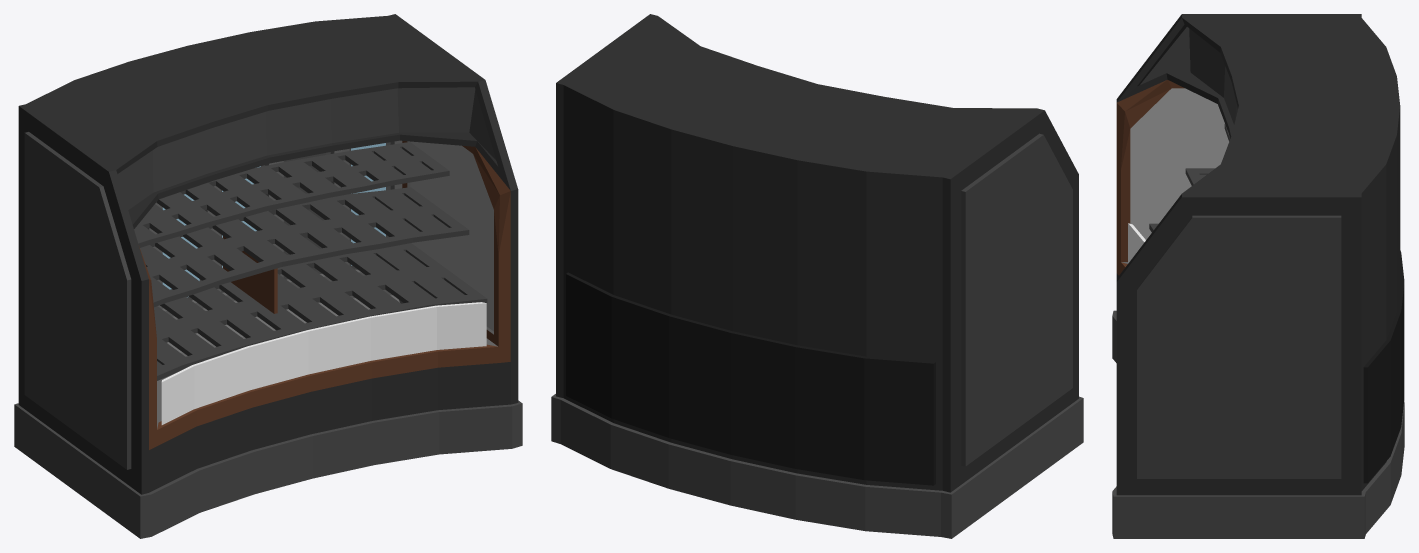
The model's file is Fridge Display #1.fbx.
3 renders of one model, left to right at view 1: azimuth 30°, elevation 25°; view 2: azimuth 150°, elevation 25°; view 3: azimuth 270°, elevation 25°, orthographic. The views are drawn at different scales.
Visible parts, largest first — view 1: Fridge Display #1; view 2: Fridge Display #1; view 3: Fridge Display #1.
Part boxes in pixels (x1,y1,x2,y2): Fridge Display #1: [14, 14, 522, 538]; Fridge Display #1: [551, 14, 1083, 538]; Fridge Display #1: [1112, 14, 1404, 538].
Size of the model in its own units: 163 by 138 by 107.
3 materials, 2 textured.
